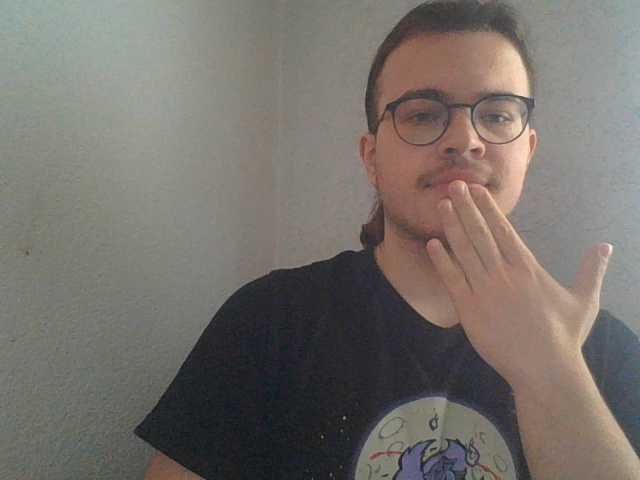ThankYou: (424, 180, 616, 480)
